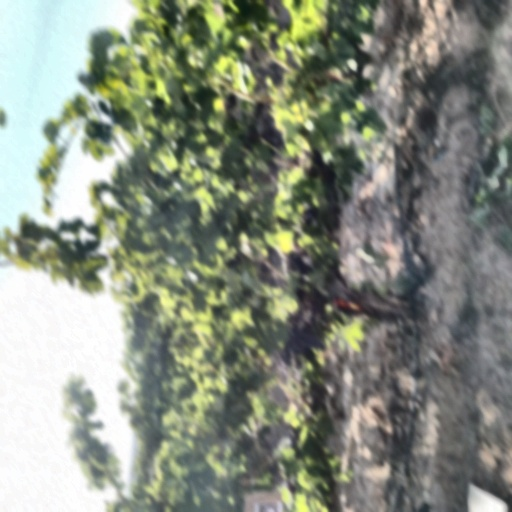QR: (251, 501, 283, 512)
